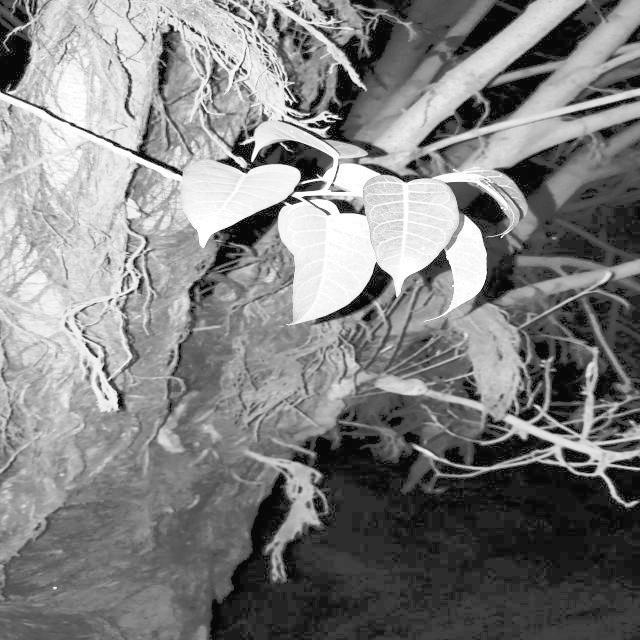Tree: (0, 0, 393, 640)
